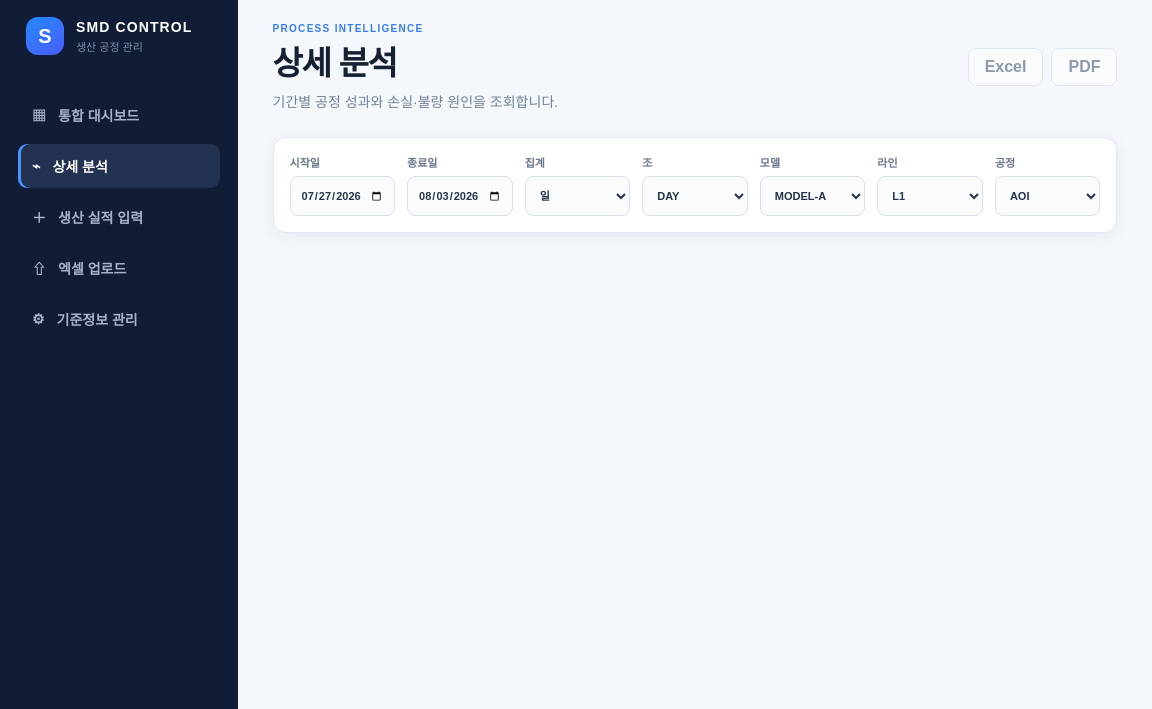
Test: AnalysisPage › aborts the previous request and ignores its late response after filter changes
Select "주" in the dropdown labelled "집계": point(578, 196) [525,176,630,216]
(page scrolled)
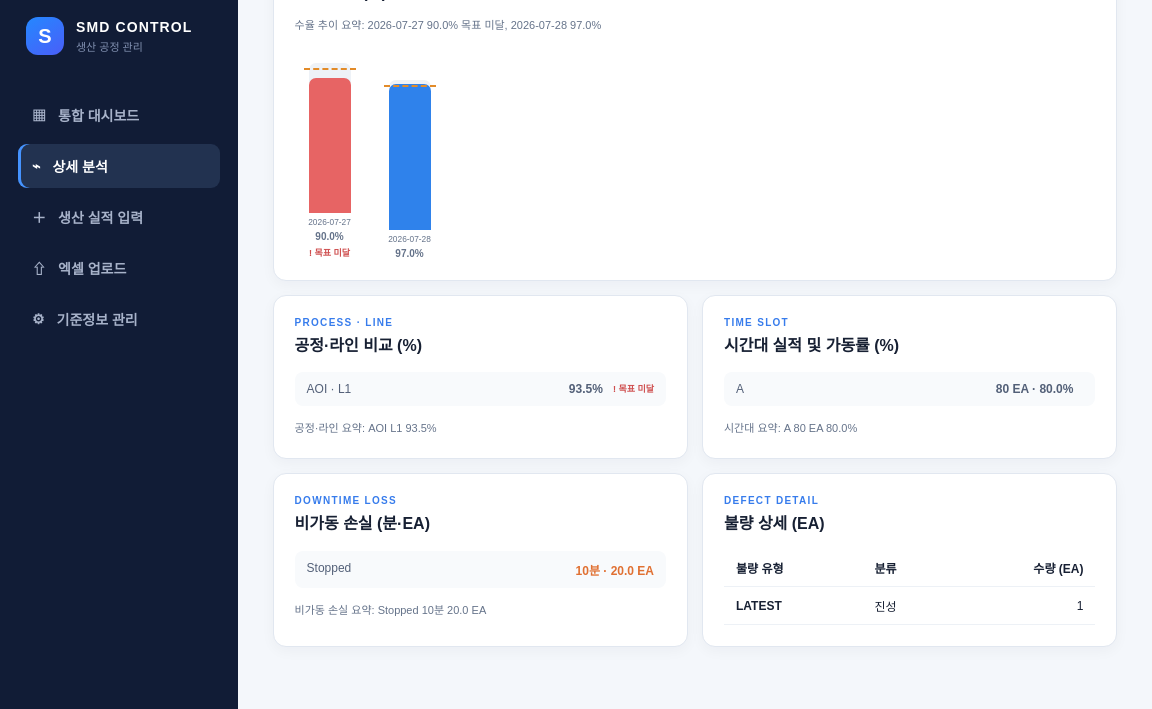
Expected: the column heading "LATEST" is shown, [724,587,862,625]
